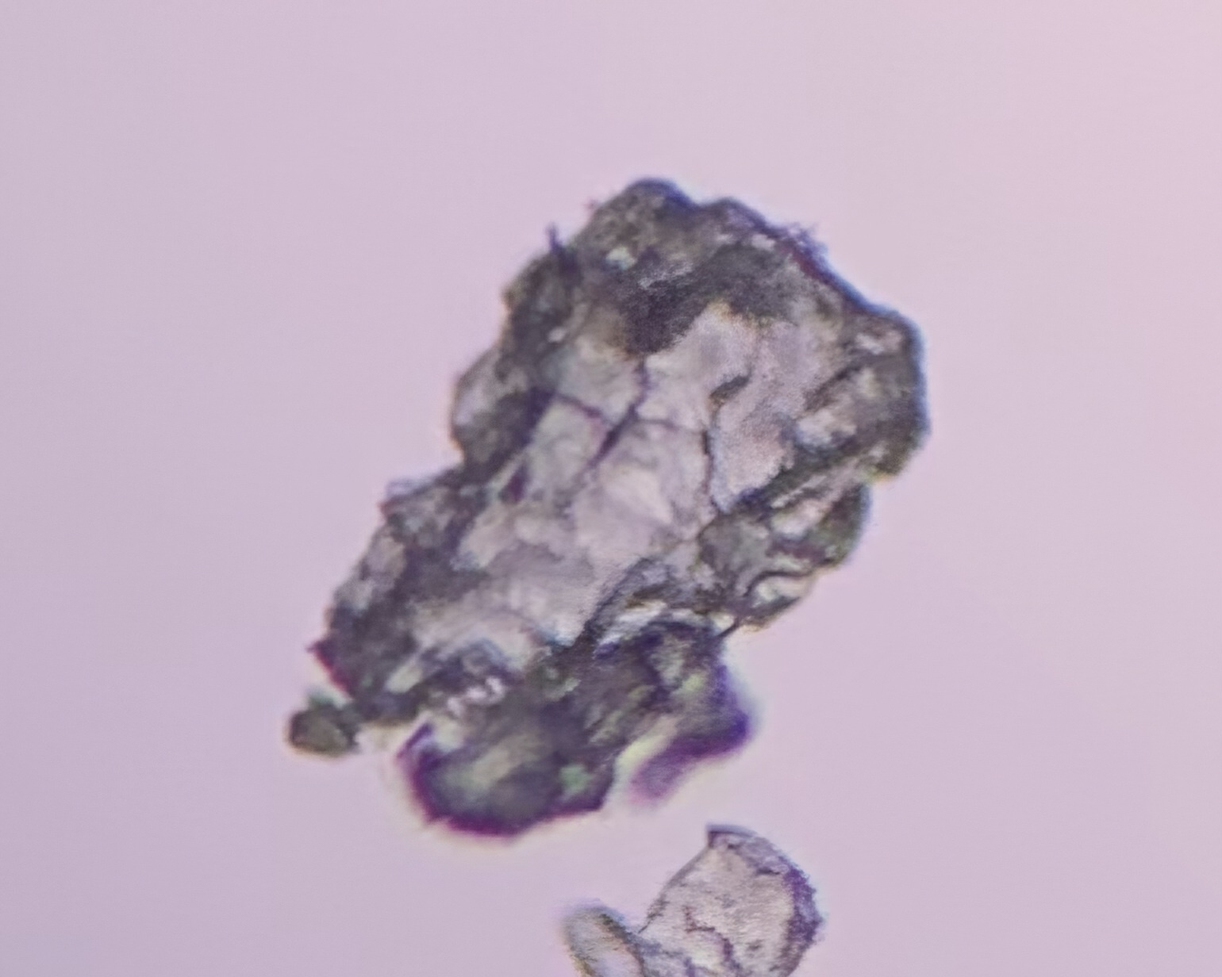microplastic: (280, 174, 933, 841), (561, 820, 832, 977)
